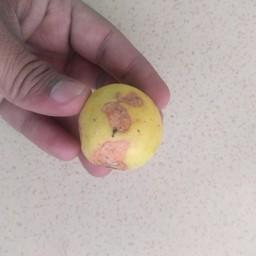Bad_lime: (78, 77, 160, 169)
